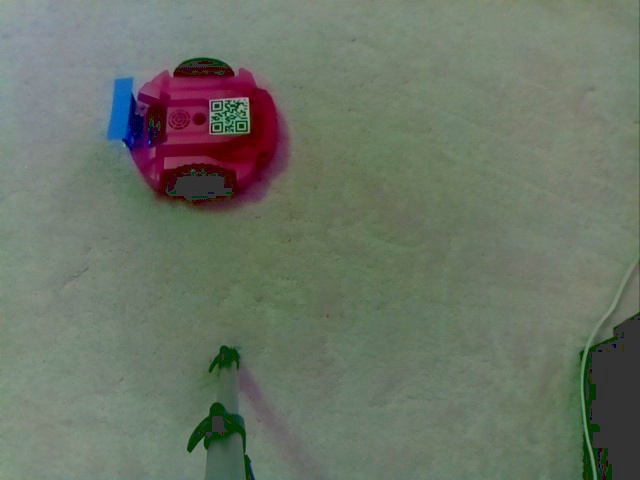board: (107, 79, 165, 147)
chassis: (107, 54, 280, 213)
